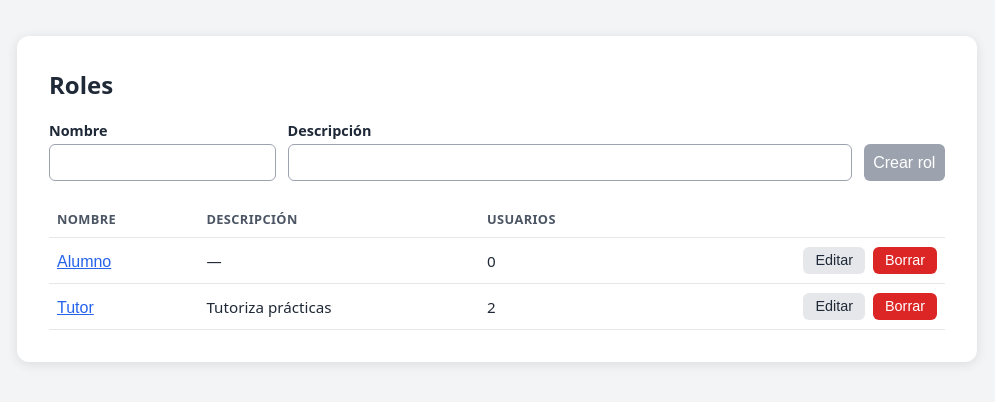
Test case: Roles › un nombre repetido muestra el 409 y conserva lo escrito
In the field labelled "Nombre": (162, 163) [49, 144, 276, 182], type "Tutor"
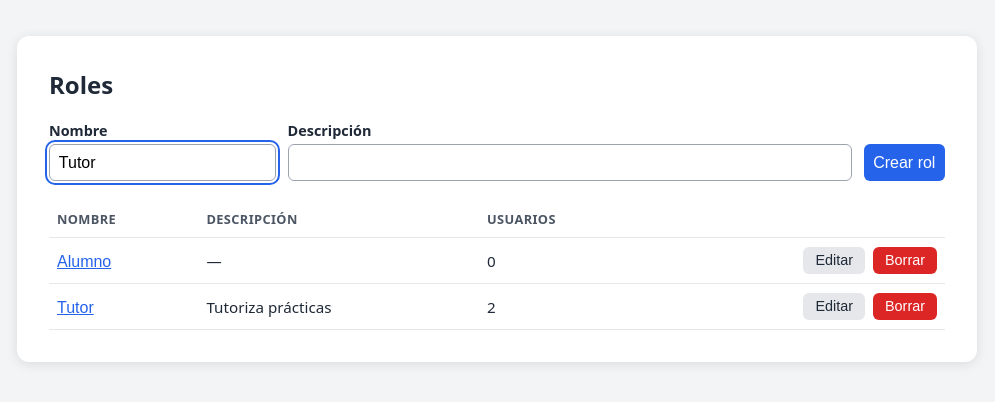
Click the button "Crear rol": (904, 163) [864, 144, 945, 182]
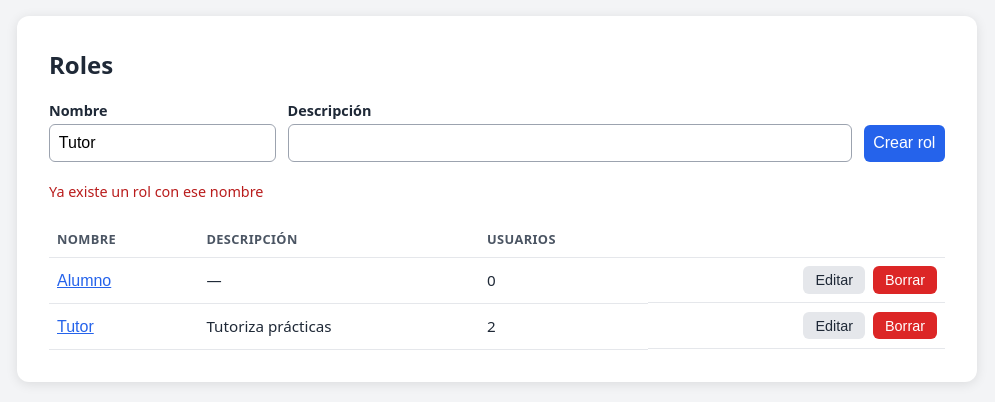
Result: the message reads "Ya existe un rol con ese nombre" at [49, 182, 264, 201]
